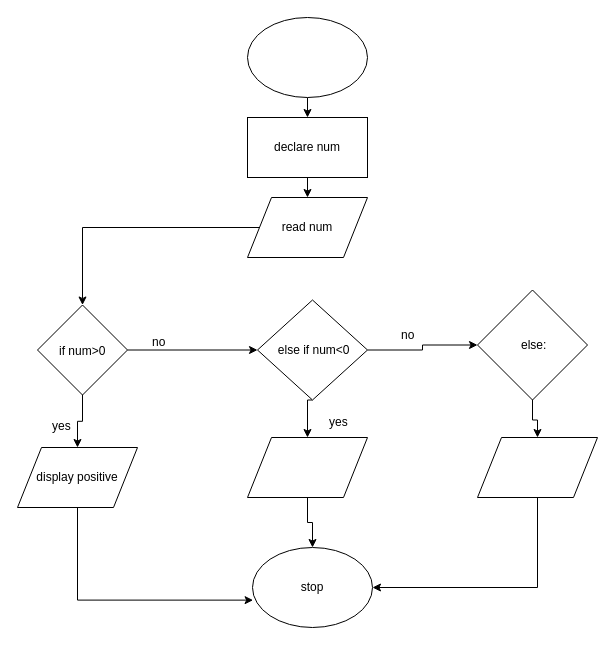
Image size: 615x645. Some labels were removed from this diagram. The centre of each missing label's shape, as x and y in pixels:
display negative: the point at 307,467
display zero: the point at 537,467
start: the point at 307,57
